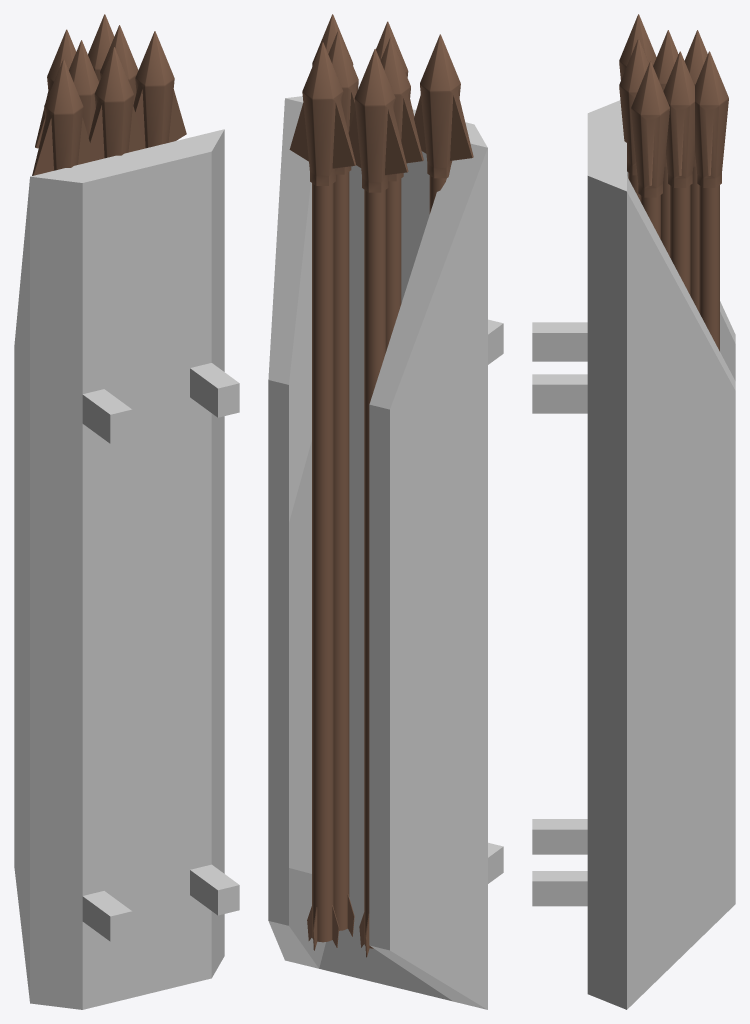
Rendered from mejora_Ballesta.fbx.
The picture shows the model from 3 angles, left to right: view 1: azimuth 30°, elevation 25°; view 2: azimuth 150°, elevation 25°; view 3: azimuth 270°, elevation 25°; orthographic projection. The views are drawn at different scales.
Parts seen in each view (by area): view 1: Cube, Cylinder.001, Cylinder.007, Cylinder.002, Cylinder.003, Cylinder.004, Cylinder.005, Cylinder.006; view 2: Cube, Cylinder.006, Cylinder.004, Cylinder.005, Cylinder.001, Cylinder.003; view 3: Cube, Cylinder.006, Cylinder.004, Cylinder.002, Cylinder.005, Cylinder.007, Cylinder.003, Cylinder.001.
Part boxes in pixels (x1,y1,x2,y2): Cube: [14, 129, 239, 1009]; Cylinder.001: [32, 59, 90, 175]; Cylinder.007: [88, 47, 145, 161]; Cylinder.002: [133, 31, 186, 148]; Cylinder.003: [69, 40, 98, 137]; Cylinder.004: [100, 25, 138, 104]; Cylinder.005: [35, 29, 76, 148]; Cylinder.006: [88, 14, 114, 81]; Cube: [268, 96, 503, 1009]; Cylinder.006: [289, 42, 355, 950]; Cylinder.004: [328, 31, 358, 936]; Cylinder.005: [348, 49, 408, 957]; Cylinder.001: [414, 34, 473, 213]; Cylinder.003: [380, 37, 423, 351]; Cube: [532, 100, 735, 1009]; Cylinder.006: [695, 51, 728, 351]; Cylinder.004: [663, 51, 694, 295]; Cylinder.002: [631, 61, 669, 239]; Cylinder.005: [684, 30, 707, 311]; Cylinder.007: [619, 38, 648, 200]; Cylinder.003: [653, 30, 678, 256]; Cylinder.001: [619, 14, 656, 79].
Bounding box in the file's own units: 301 × 1376 × 275.
